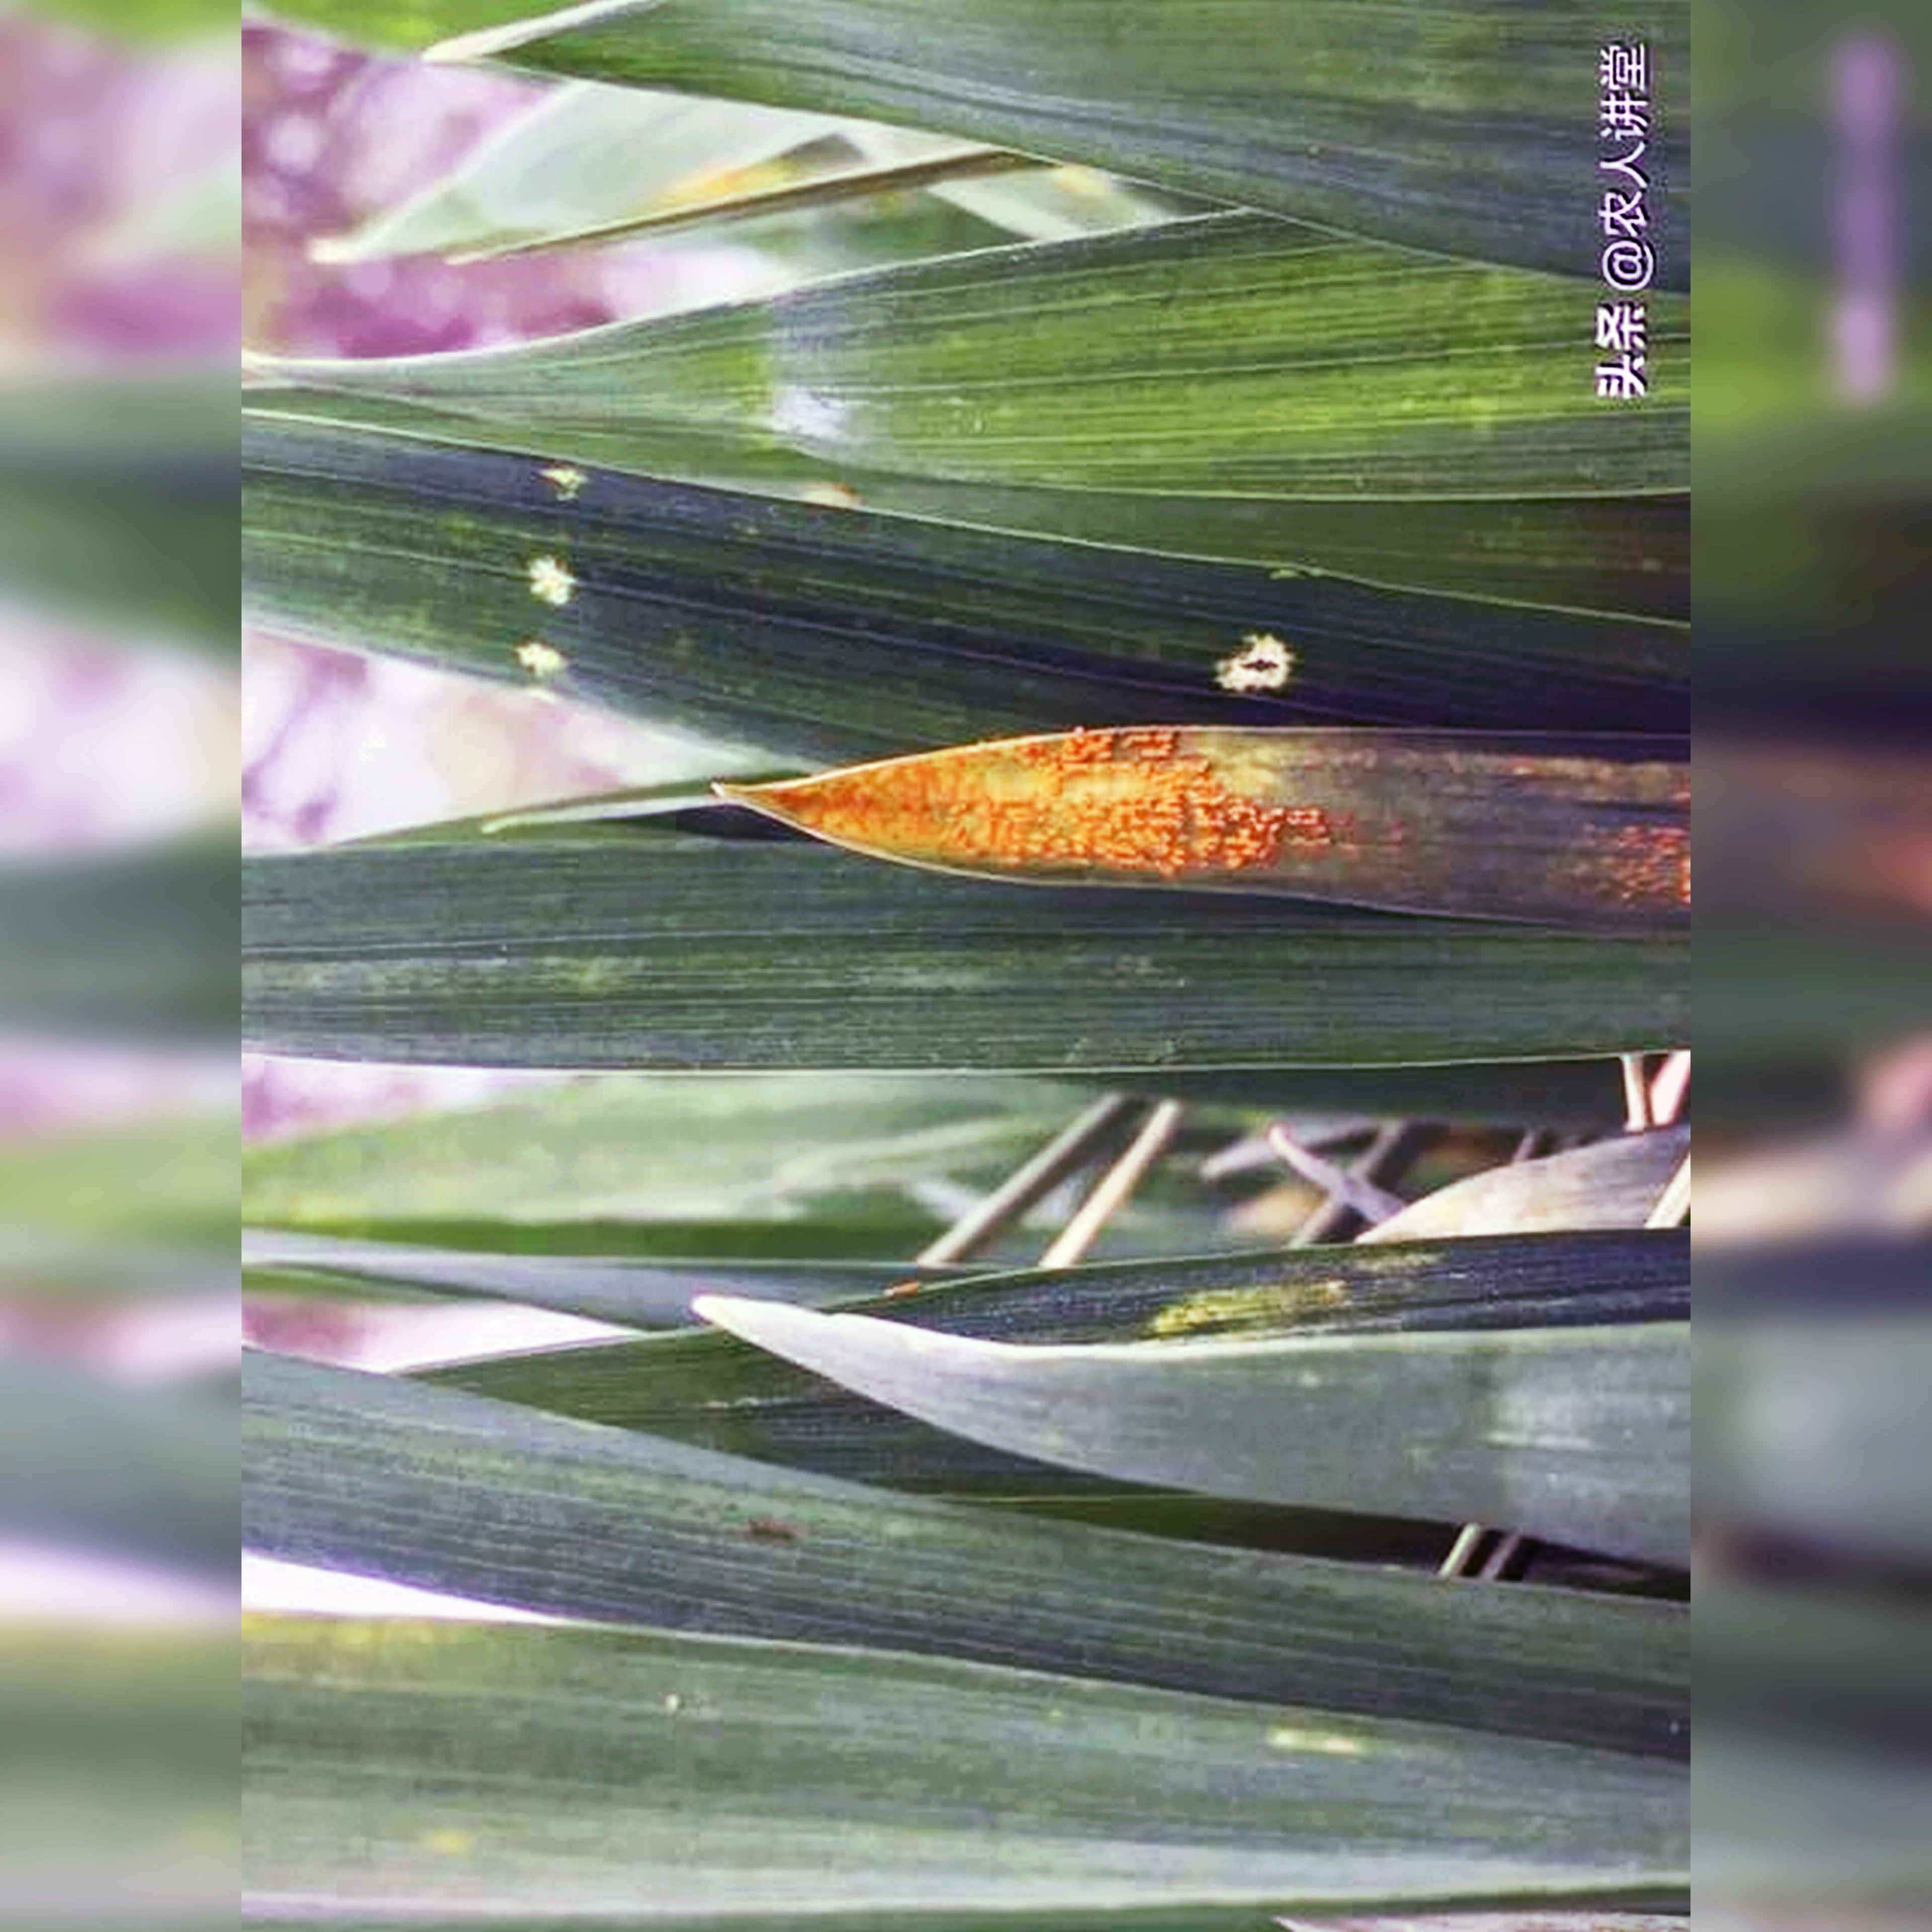Leaf Rust: (755, 709, 1660, 916)
